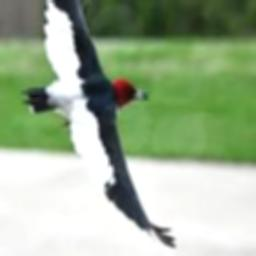Woodpecker: (22, 0, 175, 248)
